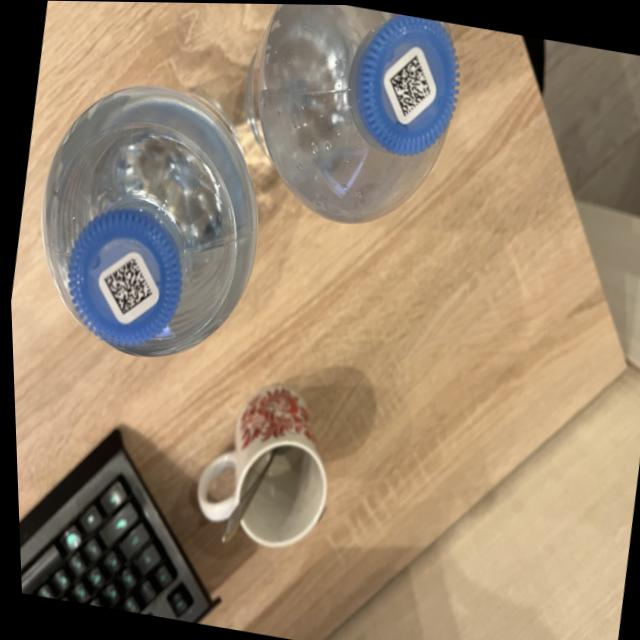datamatrix: (96, 255, 156, 320), (383, 51, 436, 120)
